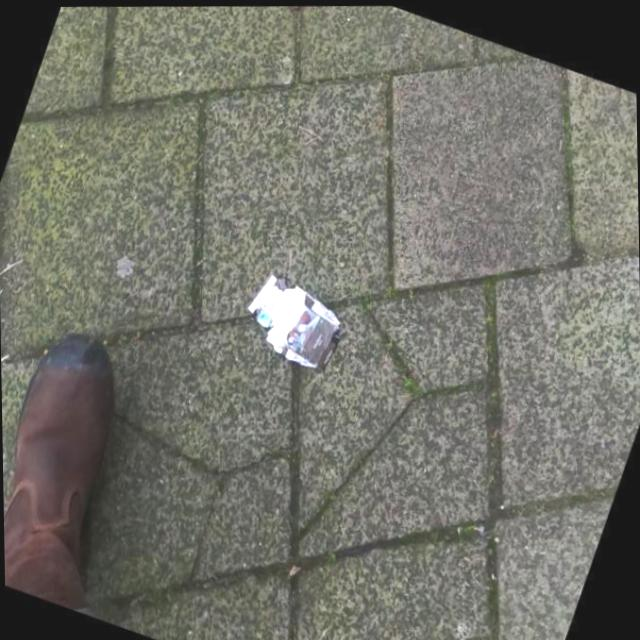Paper: (240, 265, 346, 377)
